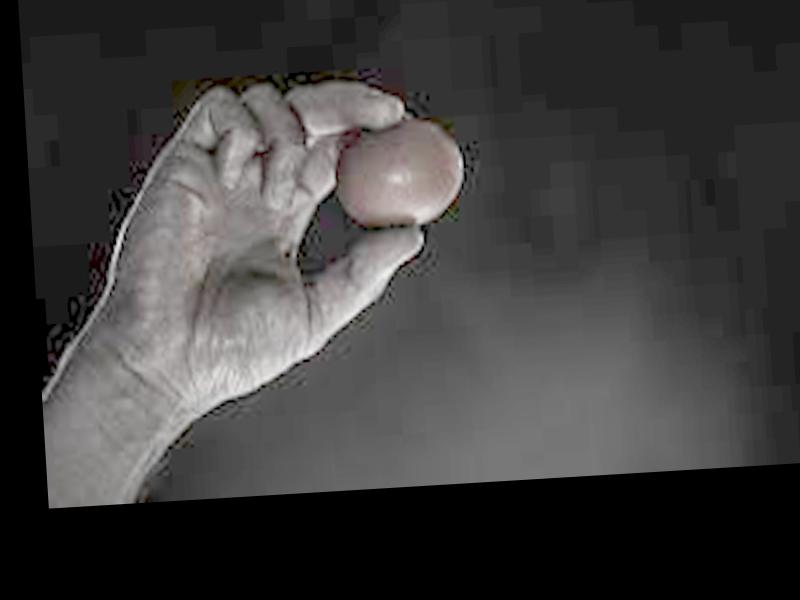Eggs: (328, 118, 465, 234)
